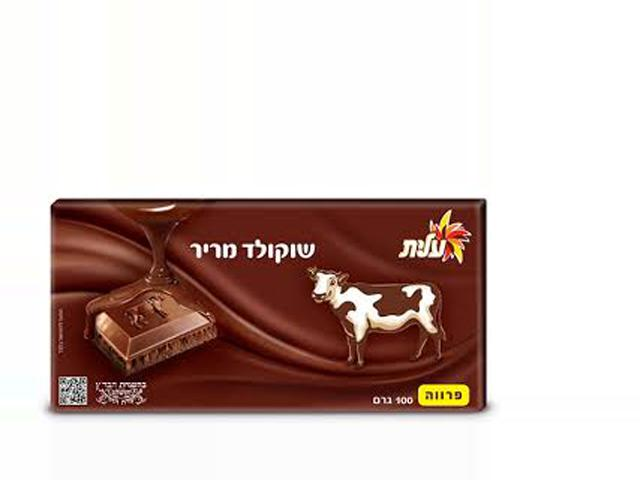chocolate: (54, 194, 496, 414)
